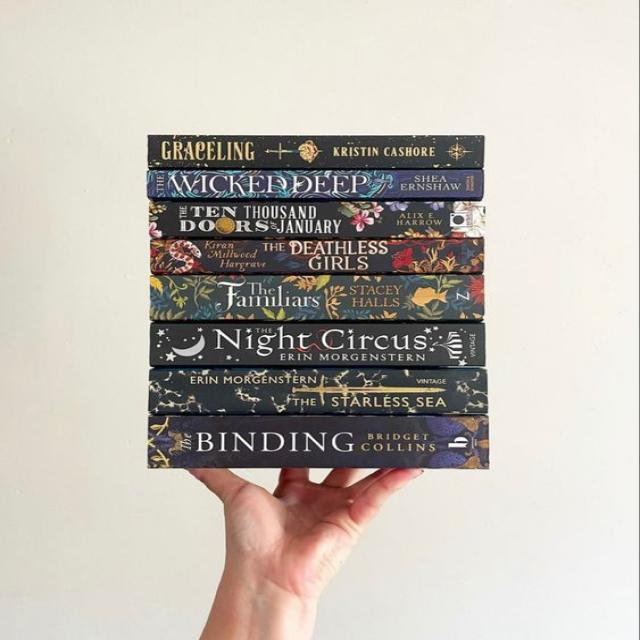book: (147, 416, 488, 469), (150, 276, 484, 320), (148, 370, 487, 413), (151, 324, 486, 366), (149, 202, 485, 236), (147, 135, 483, 167), (150, 240, 483, 271), (147, 170, 482, 198)
